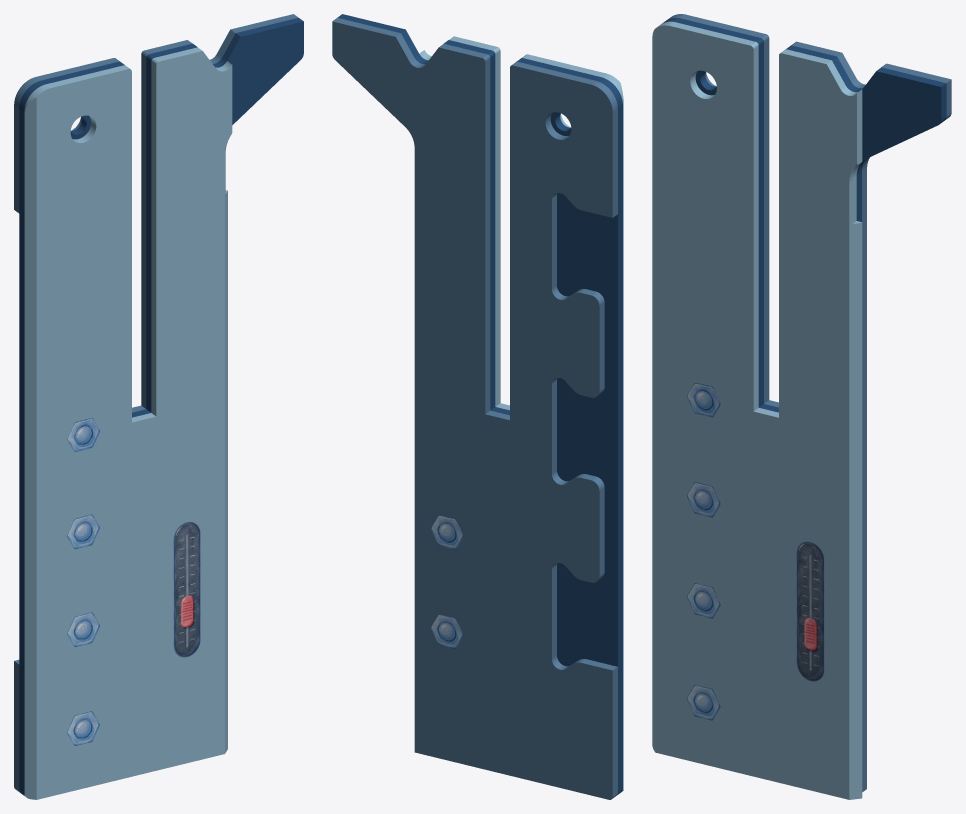
The model's file is door-left.glb.
The picture shows the model from 3 angles, left to right: view 1: azimuth 30°, elevation 25°; view 2: azimuth 150°, elevation 25°; view 3: azimuth 330°, elevation 25°; orthographic projection. The views are drawn at different scales.
Parts seen in each view (by area): view 1: door-left; view 2: door-left; view 3: door-left.
Boxes of the visible parts, <box> form: door-left: <box>14,14,303,799</box>; door-left: <box>332,14,623,799</box>; door-left: <box>652,14,951,799</box>.
Bounding box in the file's own units: 382 × 925 × 36.
5 materials, 2 textured.
